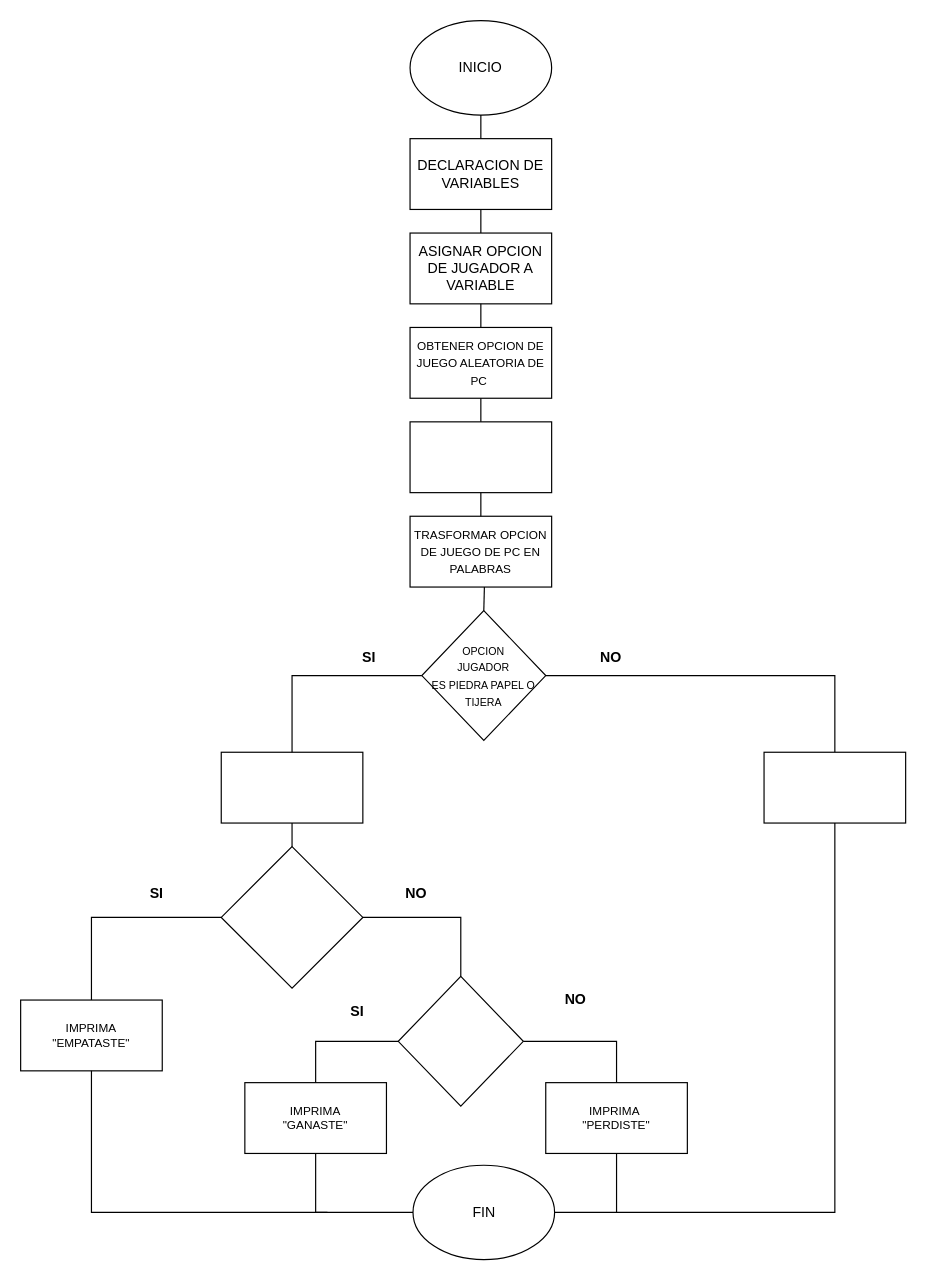
Image size: 926x1280. Some labels were removed from this diagram. The shapes that lost their labels are listed below. From the top down, each one's centre as x and y in pixels, then its label:
(x=480, y=457): TRANSFORMAR OPCION DE JUGADOR EN NUMERO
(x=291, y=787): IMPRIMA "COMPUTADOR JUEGA" {OPCION DE PC EN PALABRAS}
(x=834, y=787): IIMPRIMA "ARGUMENTO INVALIDO DEBE SER PIEDRA PAPEL O TIJERA"
(x=291, y=916): OPCION JUGADOR ES IGUAL A OPCION DE PC
(x=460, y=1040): EVALUA SI GANA JUGADOR
